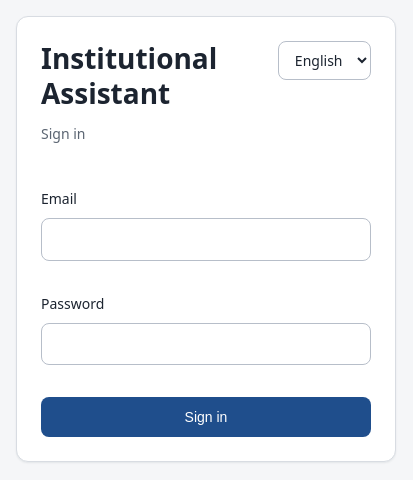
interface language switching › switches the visible language from the login screen
expect the button "Sign in" is shown: met, box [41, 397, 371, 437]
Step 1. Select "Portuguese" in the dropdown named "Interface language" → (324, 60), box [278, 41, 371, 80]
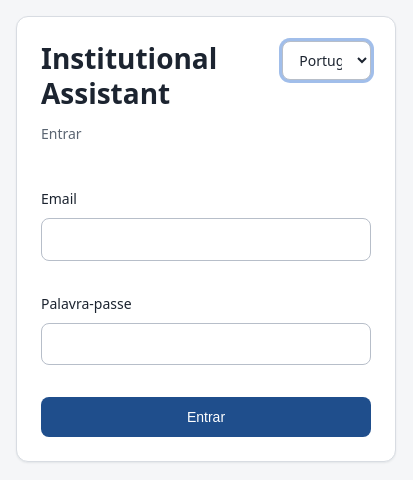
expect the button "Entrar" is shown: met, box [41, 397, 371, 437]
